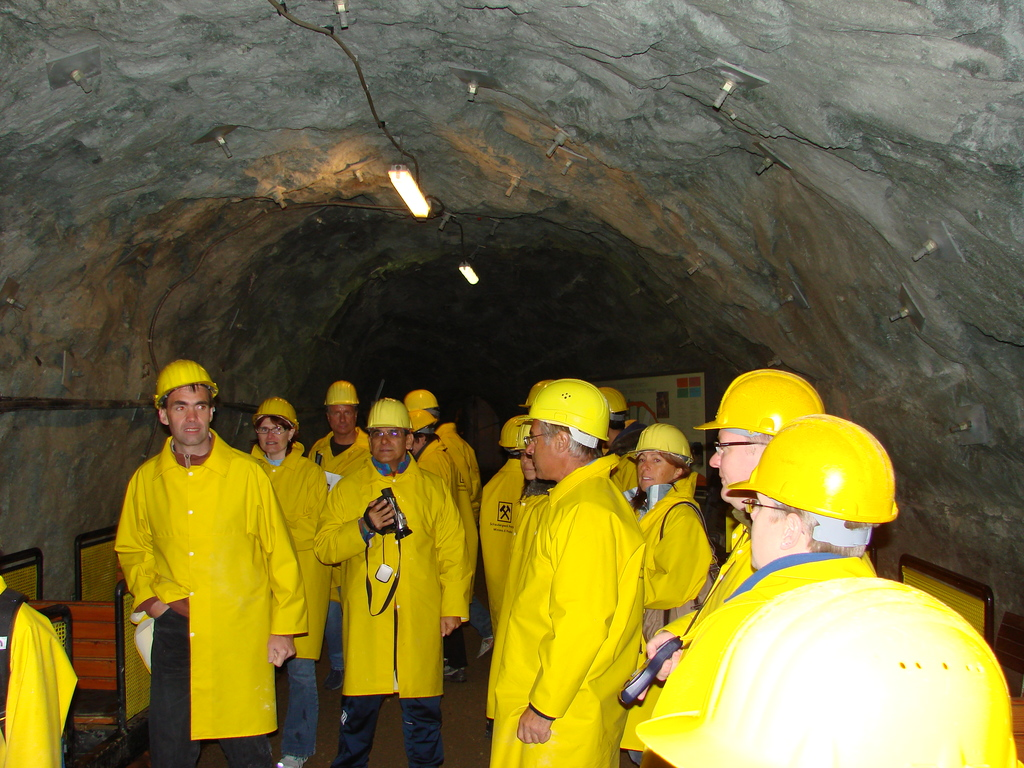Person: (0, 359, 1024, 768), (113, 358, 308, 767)
